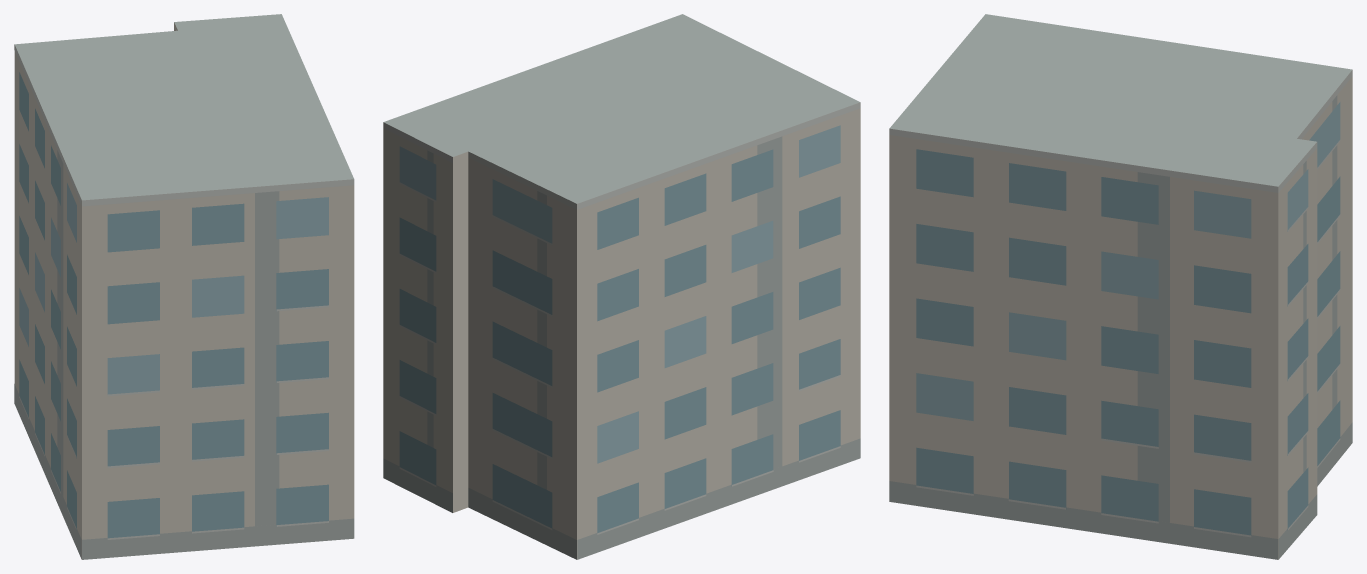
The model's file is survey-upis-32887676.glb.
The picture shows the model from 3 angles, left to right: view 1: azimuth 30°, elevation 25°; view 2: azimuth 150°, elevation 25°; view 3: azimuth 270°, elevation 25°; orthographic projection. The views are drawn at different scales.
Visible parts, largest first — view 1: survey-upis-32887676.tmp; view 2: survey-upis-32887676.tmp; view 3: survey-upis-32887676.tmp.
Boxes of the visible parts, x1,y1,x2,y2 form: survey-upis-32887676.tmp: (14,14,354,559); survey-upis-32887676.tmp: (383,14,860,559); survey-upis-32887676.tmp: (889,14,1352,559).
Size of the model in its own units: 14.3 by 14.4 by 16.21.
